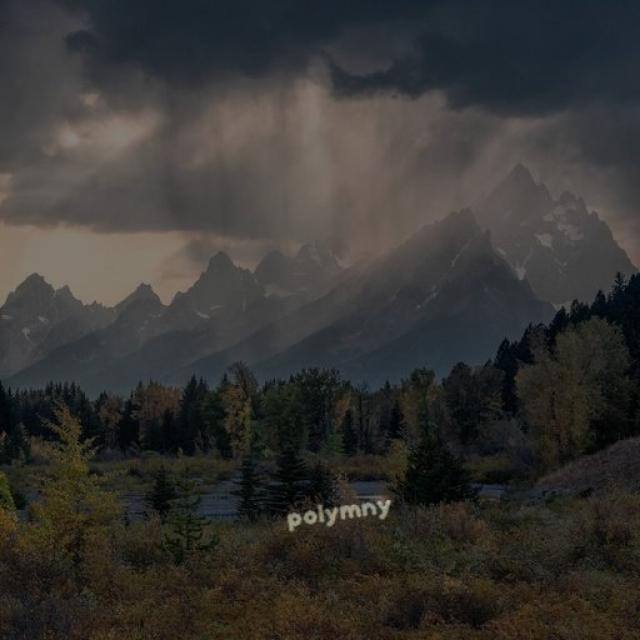watermark: (282, 495, 394, 529)
